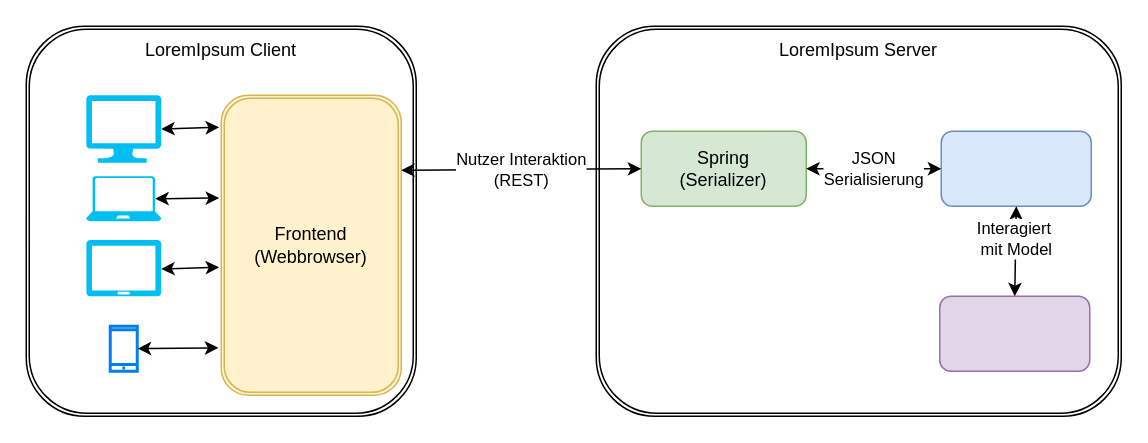
Some shapes in this 1148 by 443 pixel diagram are drawn without their labels. The shapes that lost their labels are listed below. From the top down, each one's box as (x1, y1, x2, y2) in pixels, then its label:
(940, 130, 1091, 206): Controller
(938, 295, 1090, 371): Model
